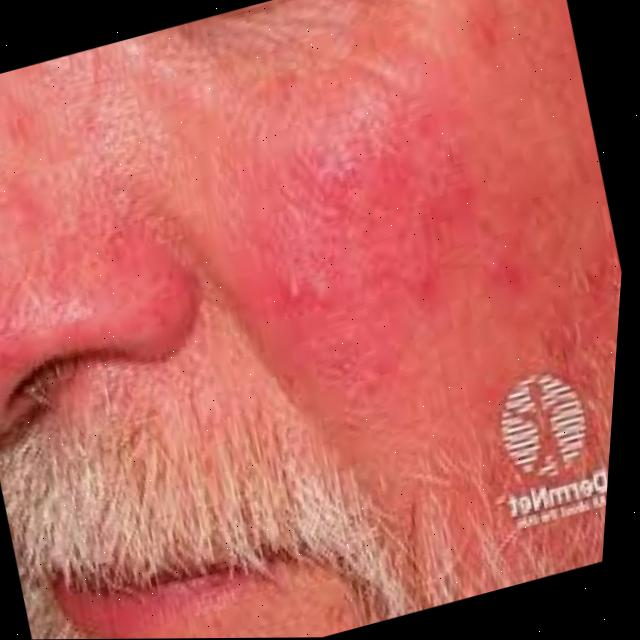Rosacea: (197, 0, 617, 438), (0, 112, 85, 335)
